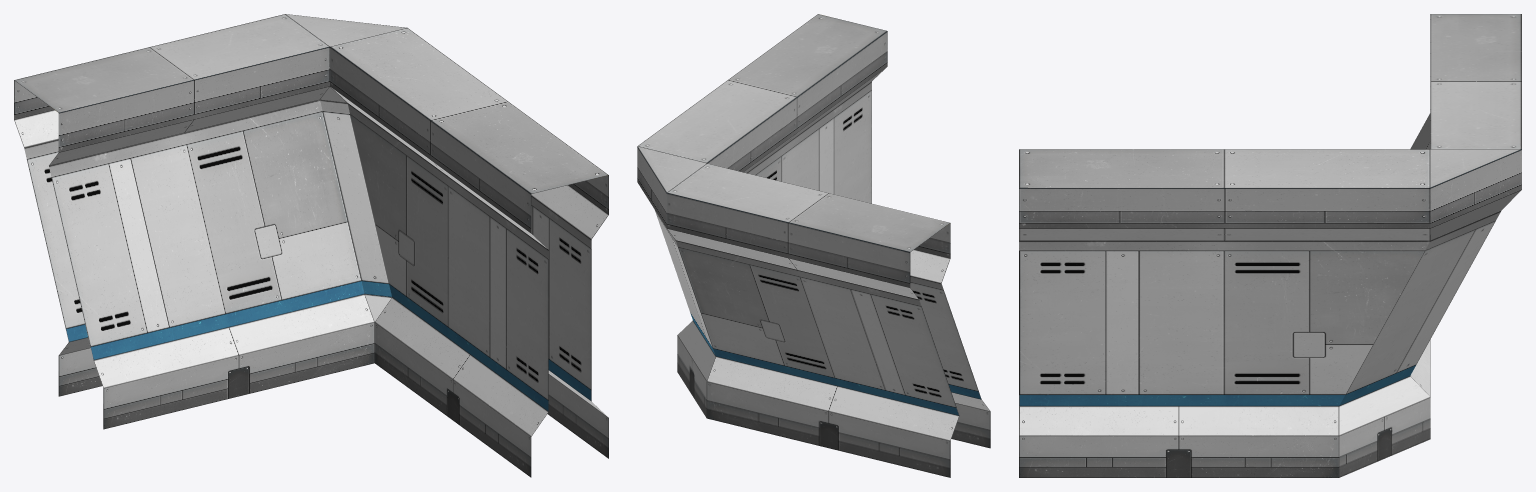
The model's file is Corner_Short_Right_03.FBX.
3 views of the same model, side by side, from view 1: azimuth 30°, elevation 25°; view 2: azimuth 150°, elevation 25°; view 3: azimuth 270°, elevation 25° (orthographic). The views are drawn at different scales.
Parts seen in each view (by area): view 1: Corner_Short_Right_03; view 2: Corner_Short_Right_03; view 3: Corner_Short_Right_03.
Boxes of the visible parts, x1,y1,x2,y2 form: Corner_Short_Right_03: (14, 14, 608, 477); Corner_Short_Right_03: (637, 14, 990, 477); Corner_Short_Right_03: (1019, 14, 1521, 477).
Bounding box in the file's own units: 180 × 140 × 220.
